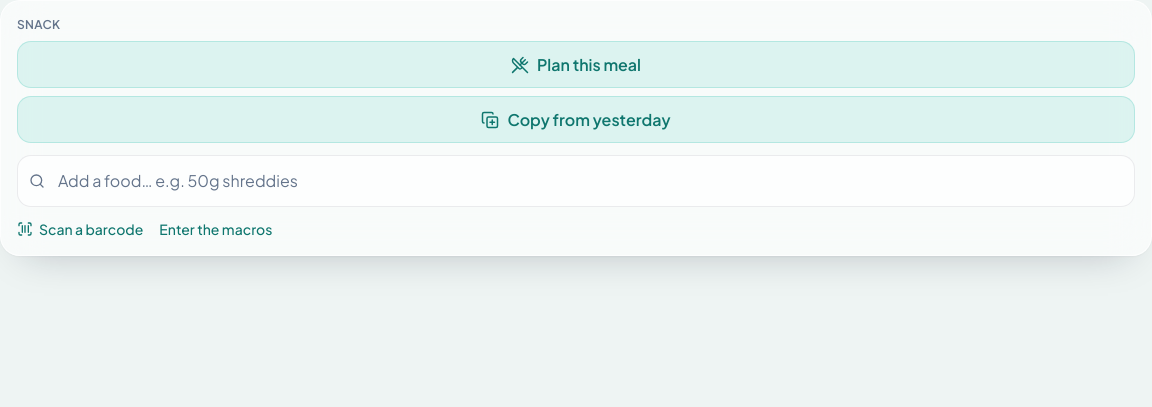
meal builder, foods with no barcode › puts reference foods above the web results
Step 1. Type "cake" into the field with placeholder "Add a food… e.g. 50g shreddies" → {"x": 576, "y": 181}, box [17,155,1135,207]
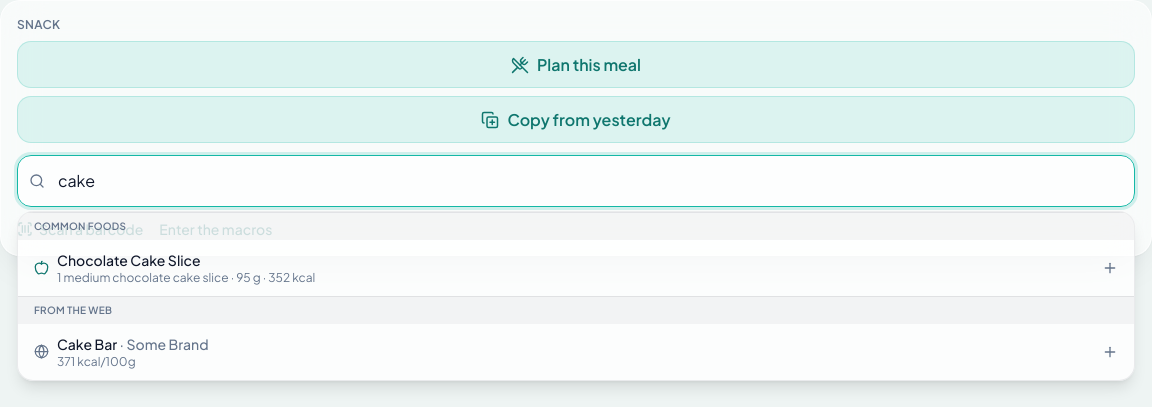
Check: the text "Cake Bar" is shown, box [57,335,117,353]
